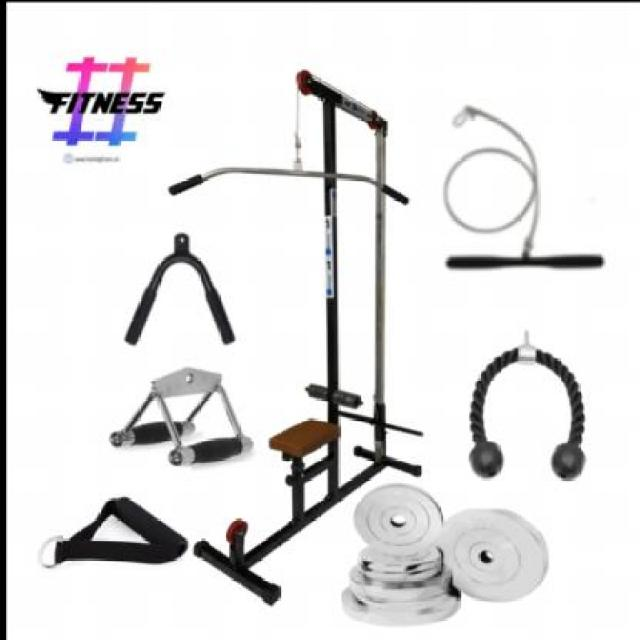Lat Pull Down: (148, 62, 432, 612)
